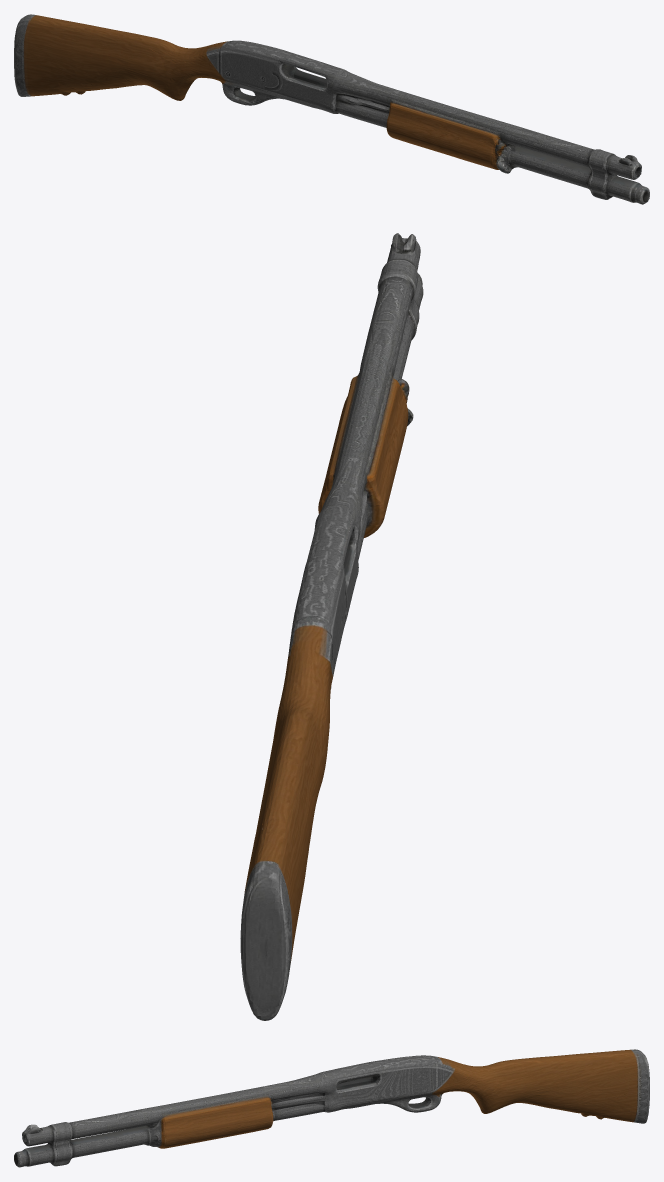
Rendered from shotgun.glb.
3 views of the same model, one above another, from view 1: azimuth 30°, elevation 25°; view 2: azimuth 150°, elevation 25°; view 3: azimuth 270°, elevation 25° (orthographic). The views are drawn at different scales.
Visible parts, largest first — view 1: tripo_node_945de9da-2ded-4747-8a41-168914839efe; view 2: tripo_node_945de9da-2ded-4747-8a41-168914839efe; view 3: tripo_node_945de9da-2ded-4747-8a41-168914839efe.
Part boxes in pixels (x1,y1,x2,y2): tripo_node_945de9da-2ded-4747-8a41-168914839efe: [14, 14, 649, 204]; tripo_node_945de9da-2ded-4747-8a41-168914839efe: [240, 233, 423, 1020]; tripo_node_945de9da-2ded-4747-8a41-168914839efe: [14, 1049, 649, 1167].
Bounding box in the file's own units: 0.4663 × 0.1943 × 1.
1 material, 1 textured.
